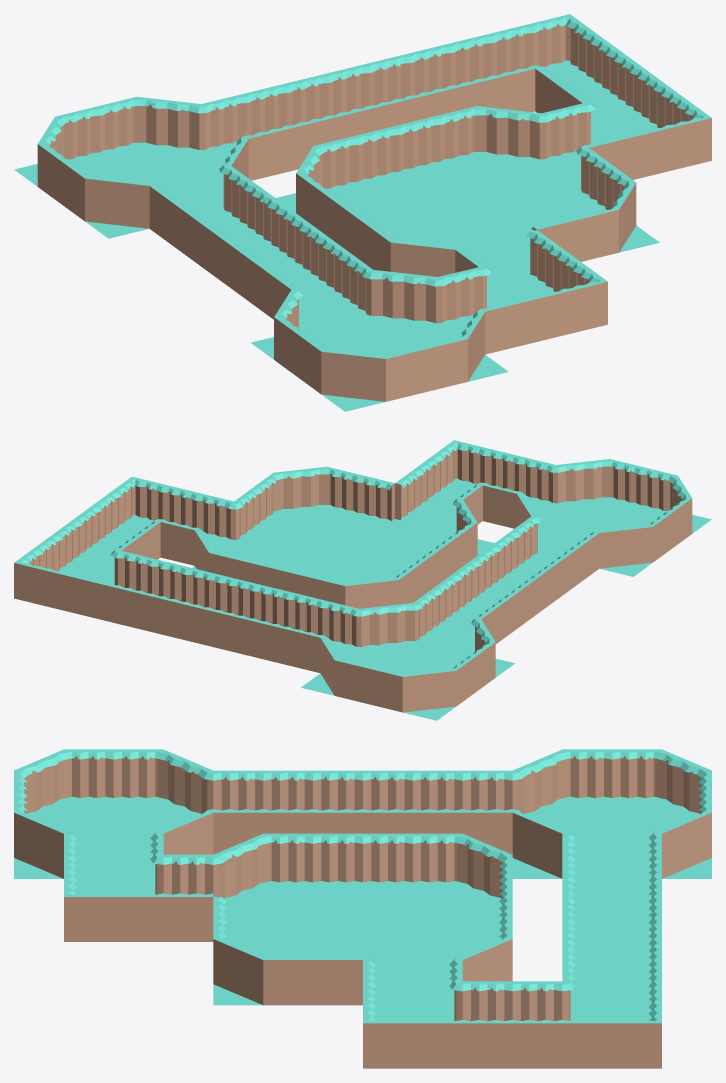
Rendered from Area.fbx.
The picture shows the model from 3 angles, top to bottom: view 1: azimuth 30°, elevation 25°; view 2: azimuth 150°, elevation 25°; view 3: azimuth 270°, elevation 25°; orthographic projection. The views are drawn at different scales.
Parts seen in each view (by area): view 1: ground_grass117; view 2: ground_grass117; view 3: ground_grass117, ground_grass63.
Part boxes in pixels (x1=…): ground_grass117: x1=14, y1=14, x2=711, y2=411; ground_grass117: x1=14, y1=440, x2=711, y2=720; ground_grass117: x1=14, y1=749, x2=711, y2=1068; ground_grass63: x1=73, y1=879, x2=113, y2=894.
Size of the model in its own units: 1300 by 100 by 1400.
